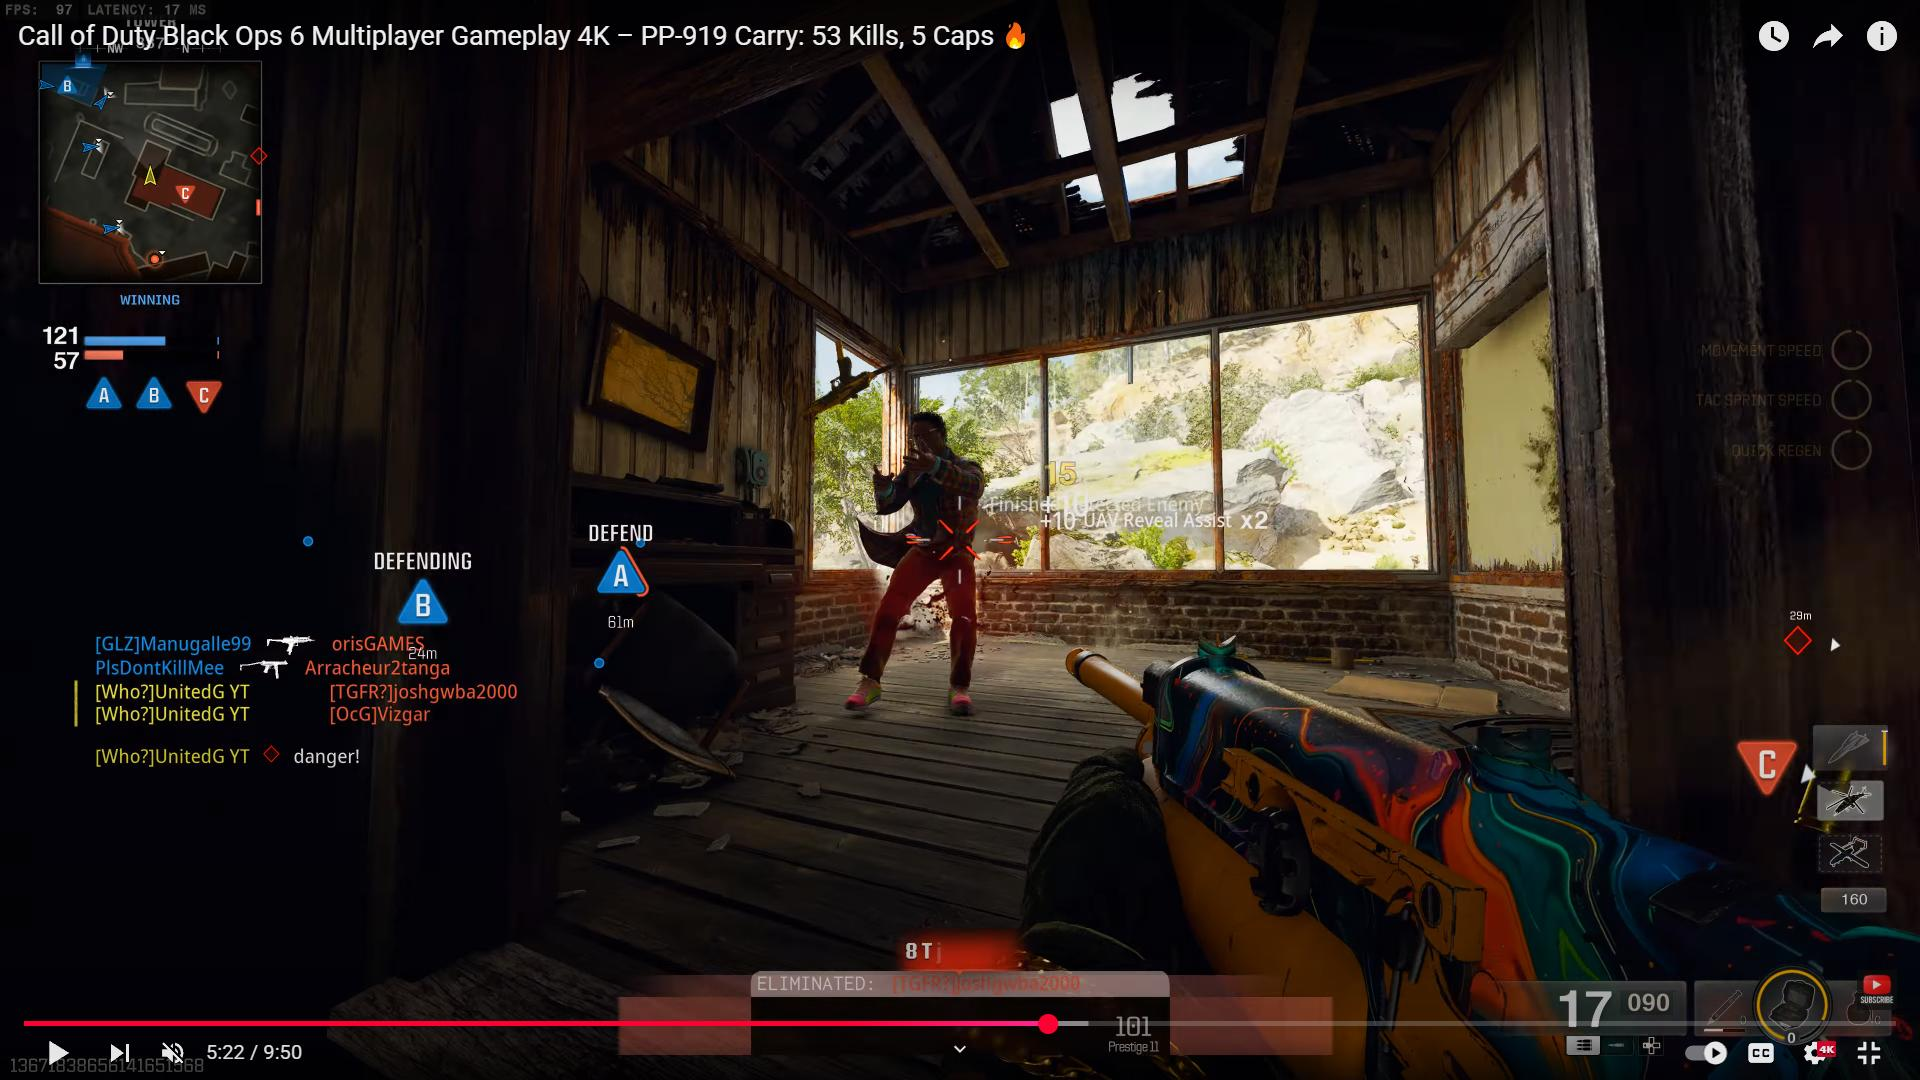Enemy: (873, 405, 994, 727)
